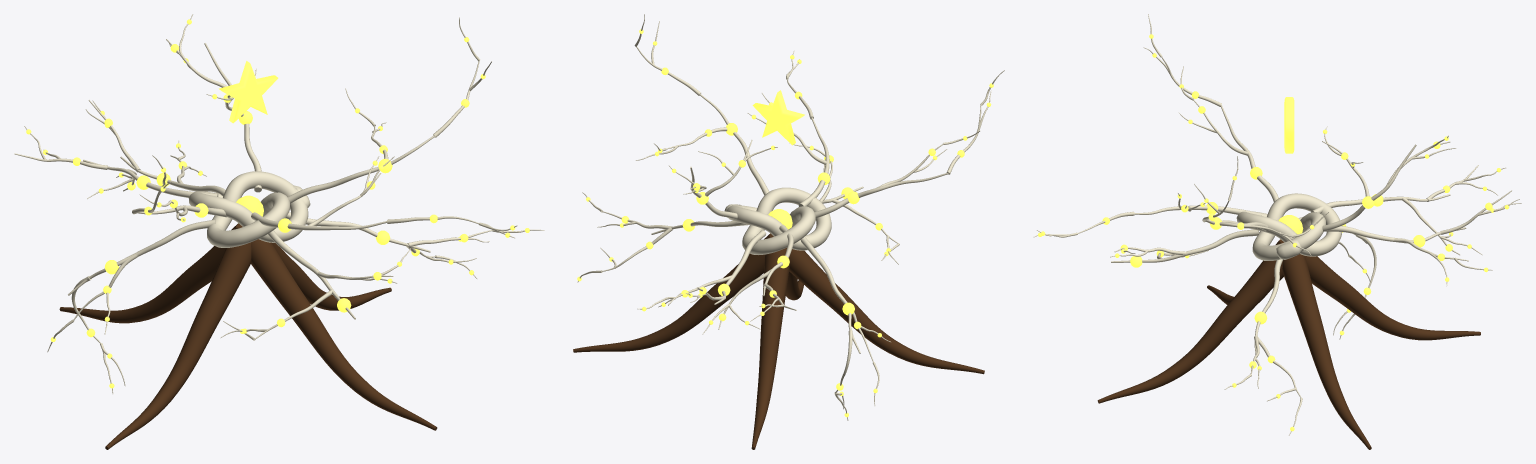
Rendered from gomen-weavers.glb.
3 views of the same model, side by side, from view 1: azimuth 30°, elevation 25°; view 2: azimuth 150°, elevation 25°; view 3: azimuth 270°, elevation 25° (orthographic). The views are drawn at different scales.
Visible parts, largest first — view 1: knot, root 3, root 2, root 1, weaver star, root 0, thread 4, thread 8, thread 6, thread 7, thread 1; view 2: knot, root 2, root 1, root 0, weaver star, thread 5, thread 4, thread 8, thread 6, thread 2; view 3: knot, root 3, root 0, root 1, thread 7, weaver star, thread 1, thread 3.
Boxes of the visible parts, x1,y1,x2,y2 form: knot: (188,171,310,247); root 3: (251,239,437,430); root 2: (105,227,251,449); root 1: (59,223,242,323); weaver star: (219,61,278,123); root 0: (271,242,391,310); thread 4: (68,219,215,295); thread 8: (287,135,434,203); thread 6: (251,212,386,230); thread 7: (268,230,355,319); thread 1: (204,43,261,192); knot: (724,187,831,254); root 2: (789,249,984,374); root 1: (751,248,790,449); root 0: (573,233,773,352); weaver star: (752,90,804,145); thread 5: (814,173,948,218); thread 4: (800,236,860,353); thread 8: (700,94,769,195); thread 6: (798,117,829,206); thread 2: (714,230,766,304); knot: (1236,193,1341,260); root 3: (1097,241,1283,403); root 0: (1282,254,1371,449); root 1: (1305,256,1480,340); thread 7: (1111,229,1259,262); weaver star: (1284,97,1294,153); thread 1: (1322,144,1416,231); thread 3: (1311,194,1450,213).
Size of the model in its own units: 2.97 by 2.21 by 3.18.
